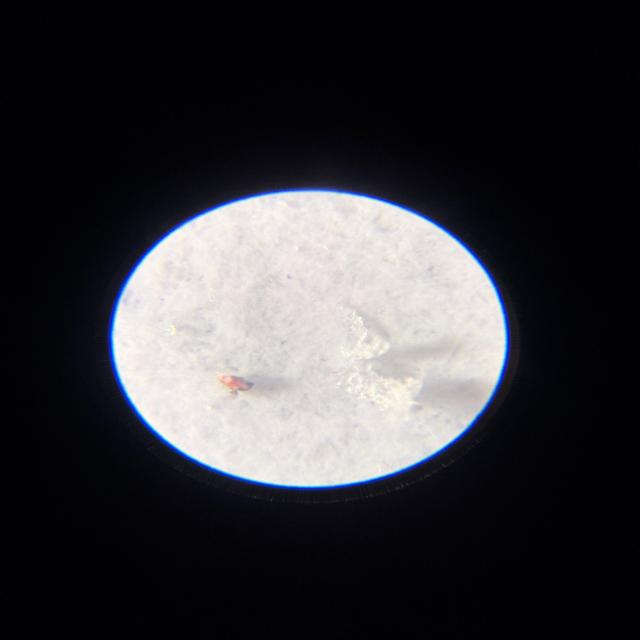microplastic_type_0: (215, 372, 254, 398)
microplastic_type_1: (337, 302, 438, 422)
